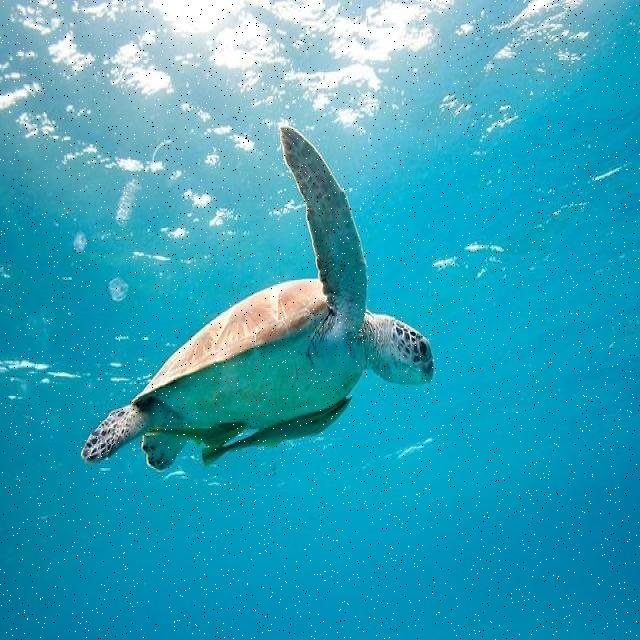fish: (81, 130, 434, 472)
